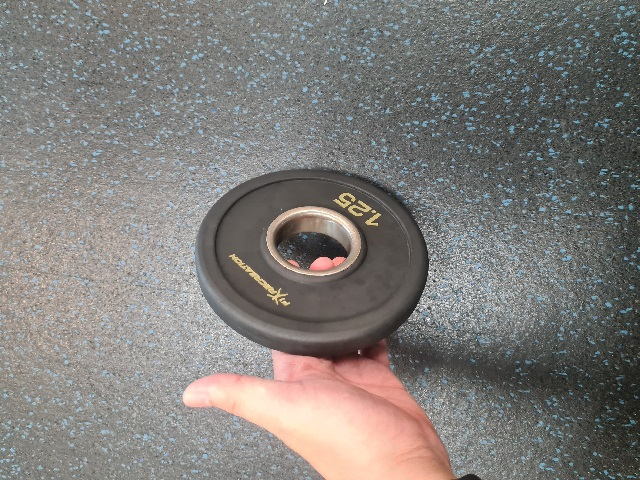weights: (192, 167, 430, 359)
